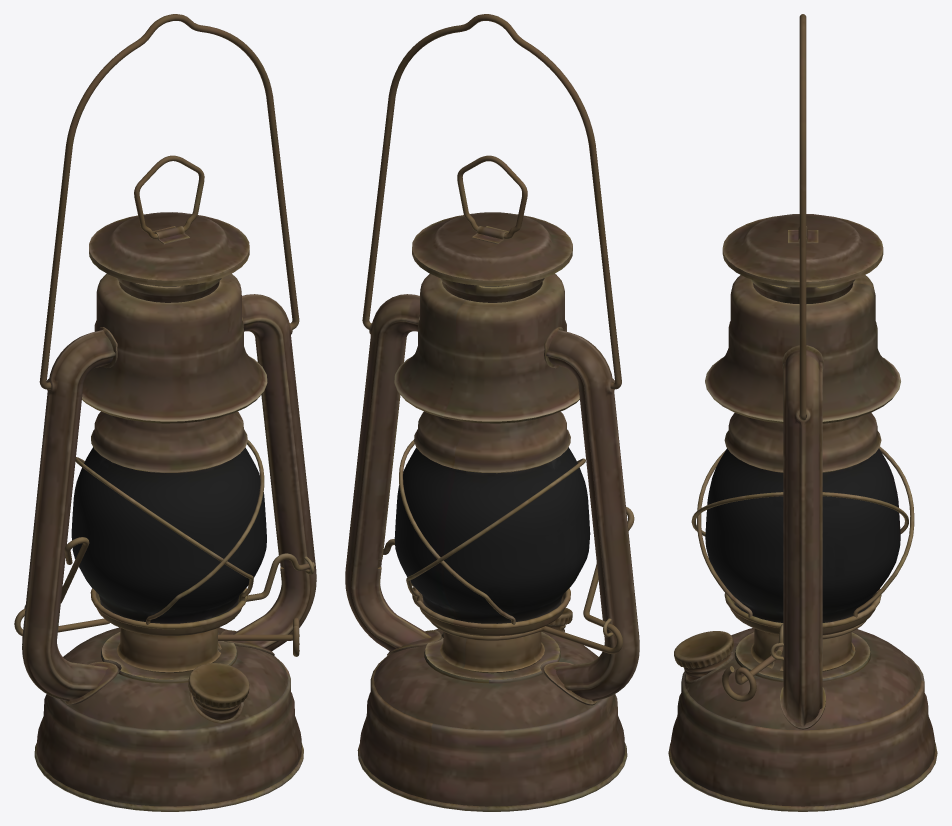
The model's file is lantern.glb.
3 renders of one model, left to right at view 1: azimuth 30°, elevation 25°; view 2: azimuth 150°, elevation 25°; view 3: azimuth 270°, elevation 25°, orthographic.
Parts seen in each view (by area): view 1: Lantern_01, Lantern_01_glass; view 2: Lantern_01, Lantern_01_glass; view 3: Lantern_01, Lantern_01_glass.
Part boxes in pixels (left/top/right/bottom): Lantern_01: left=14, top=14, right=316, bottom=811; Lantern_01_glass: left=71, top=447, right=266, bottom=623; Lantern_01: left=345, top=14, right=639, bottom=811; Lantern_01_glass: left=394, top=447, right=590, bottom=623; Lantern_01: left=668, top=14, right=937, bottom=811; Lantern_01_glass: left=705, top=448, right=900, bottom=622.
Bounding box in the file's own units: 0.1221 × 0.2942 × 0.0972.
Materials: 2 (2 with a texture image).
